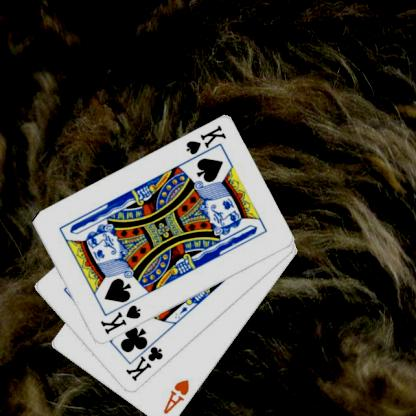AH: (160, 376, 191, 416)
KC: (122, 336, 164, 383)
KS: (183, 122, 227, 164), (97, 302, 143, 336)
